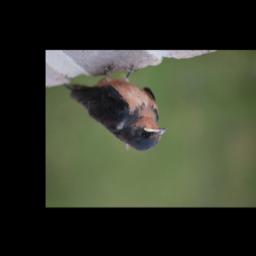Swallow: (63, 62, 168, 152)
